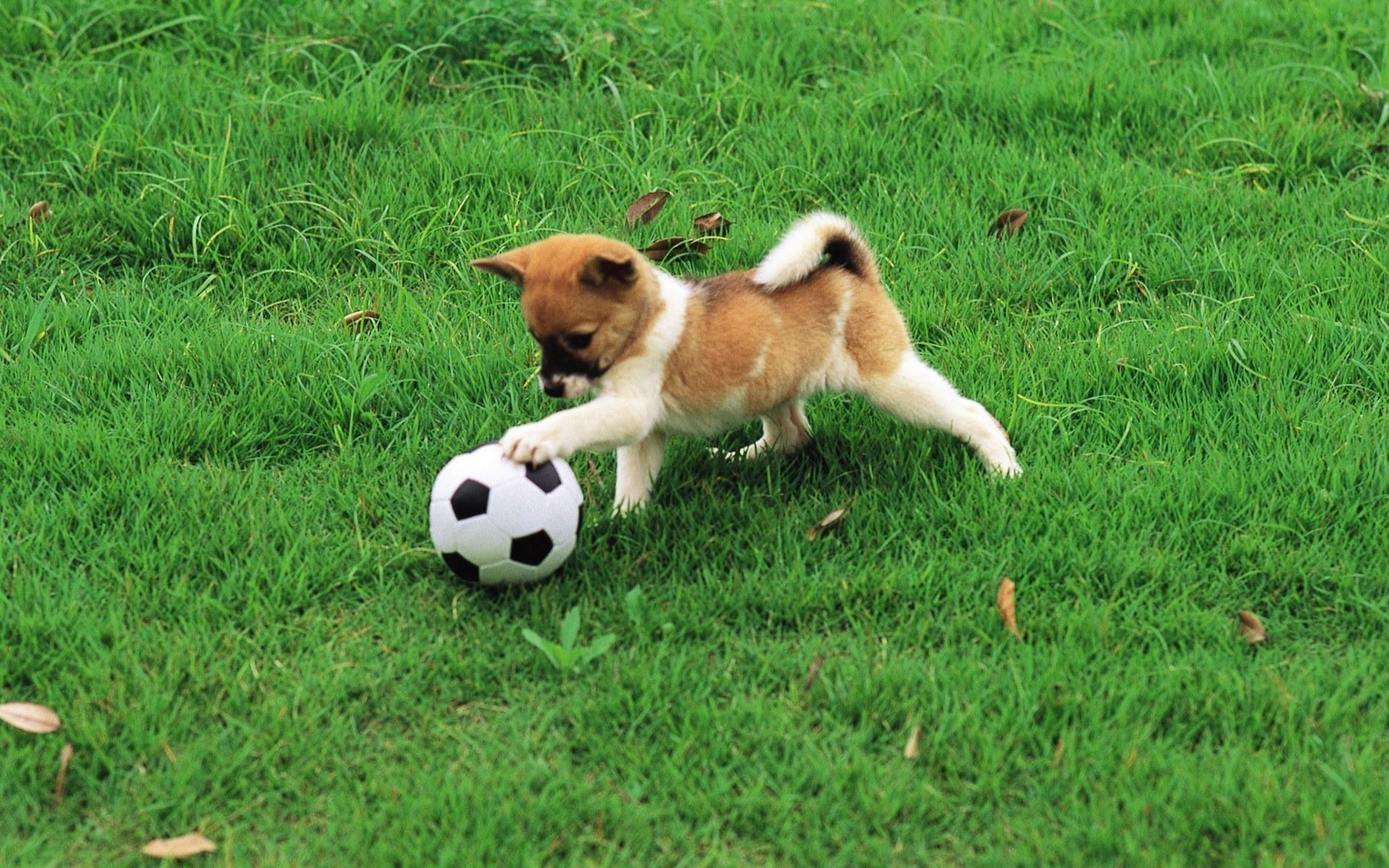non-dog: (425, 436, 586, 586)
puppy-dog: (469, 209, 1024, 518)
